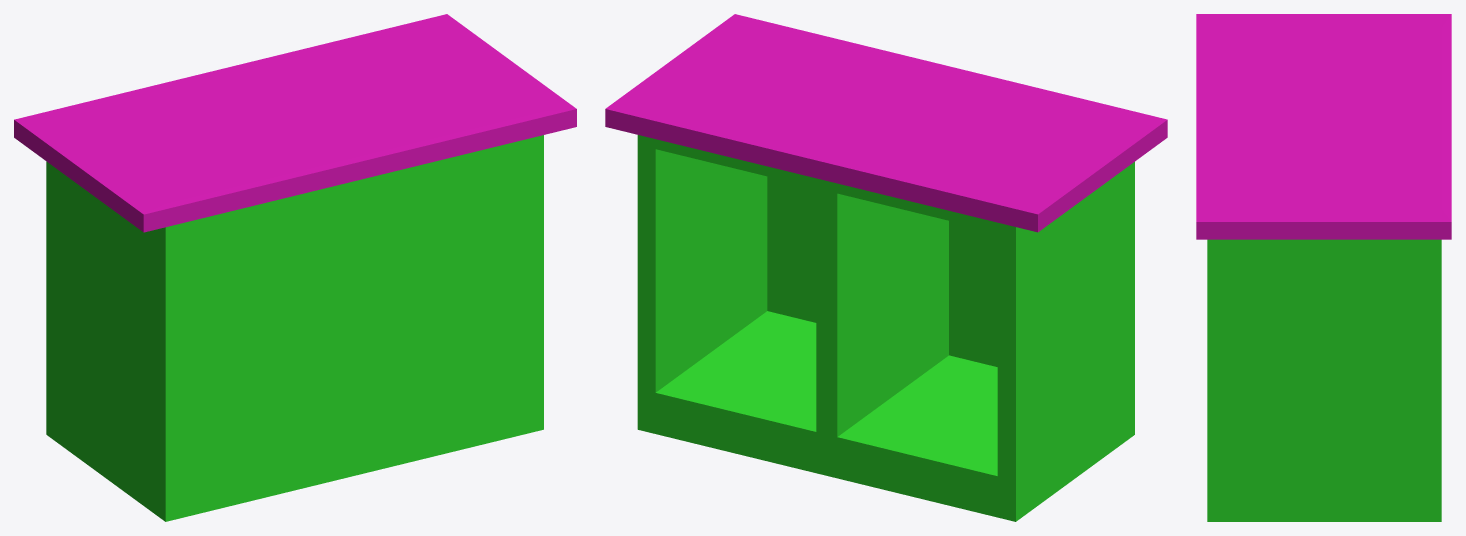
The model's file is GGJ-Cabinet-w-no-doors.fbx.
The picture shows the model from 3 angles, left to right: view 1: azimuth 30°, elevation 25°; view 2: azimuth 150°, elevation 25°; view 3: azimuth 270°, elevation 25°; orthographic projection.
Parts seen in each view (by area): view 1: Cabinet; view 2: Cabinet; view 3: Cabinet.
Part boxes in pixels (x1,y1,x2,y2): Cabinet: (14, 14, 576, 521); Cabinet: (605, 14, 1167, 521); Cabinet: (1196, 14, 1451, 521).
Bounding box in the file's own units: 420 × 218 × 295.
